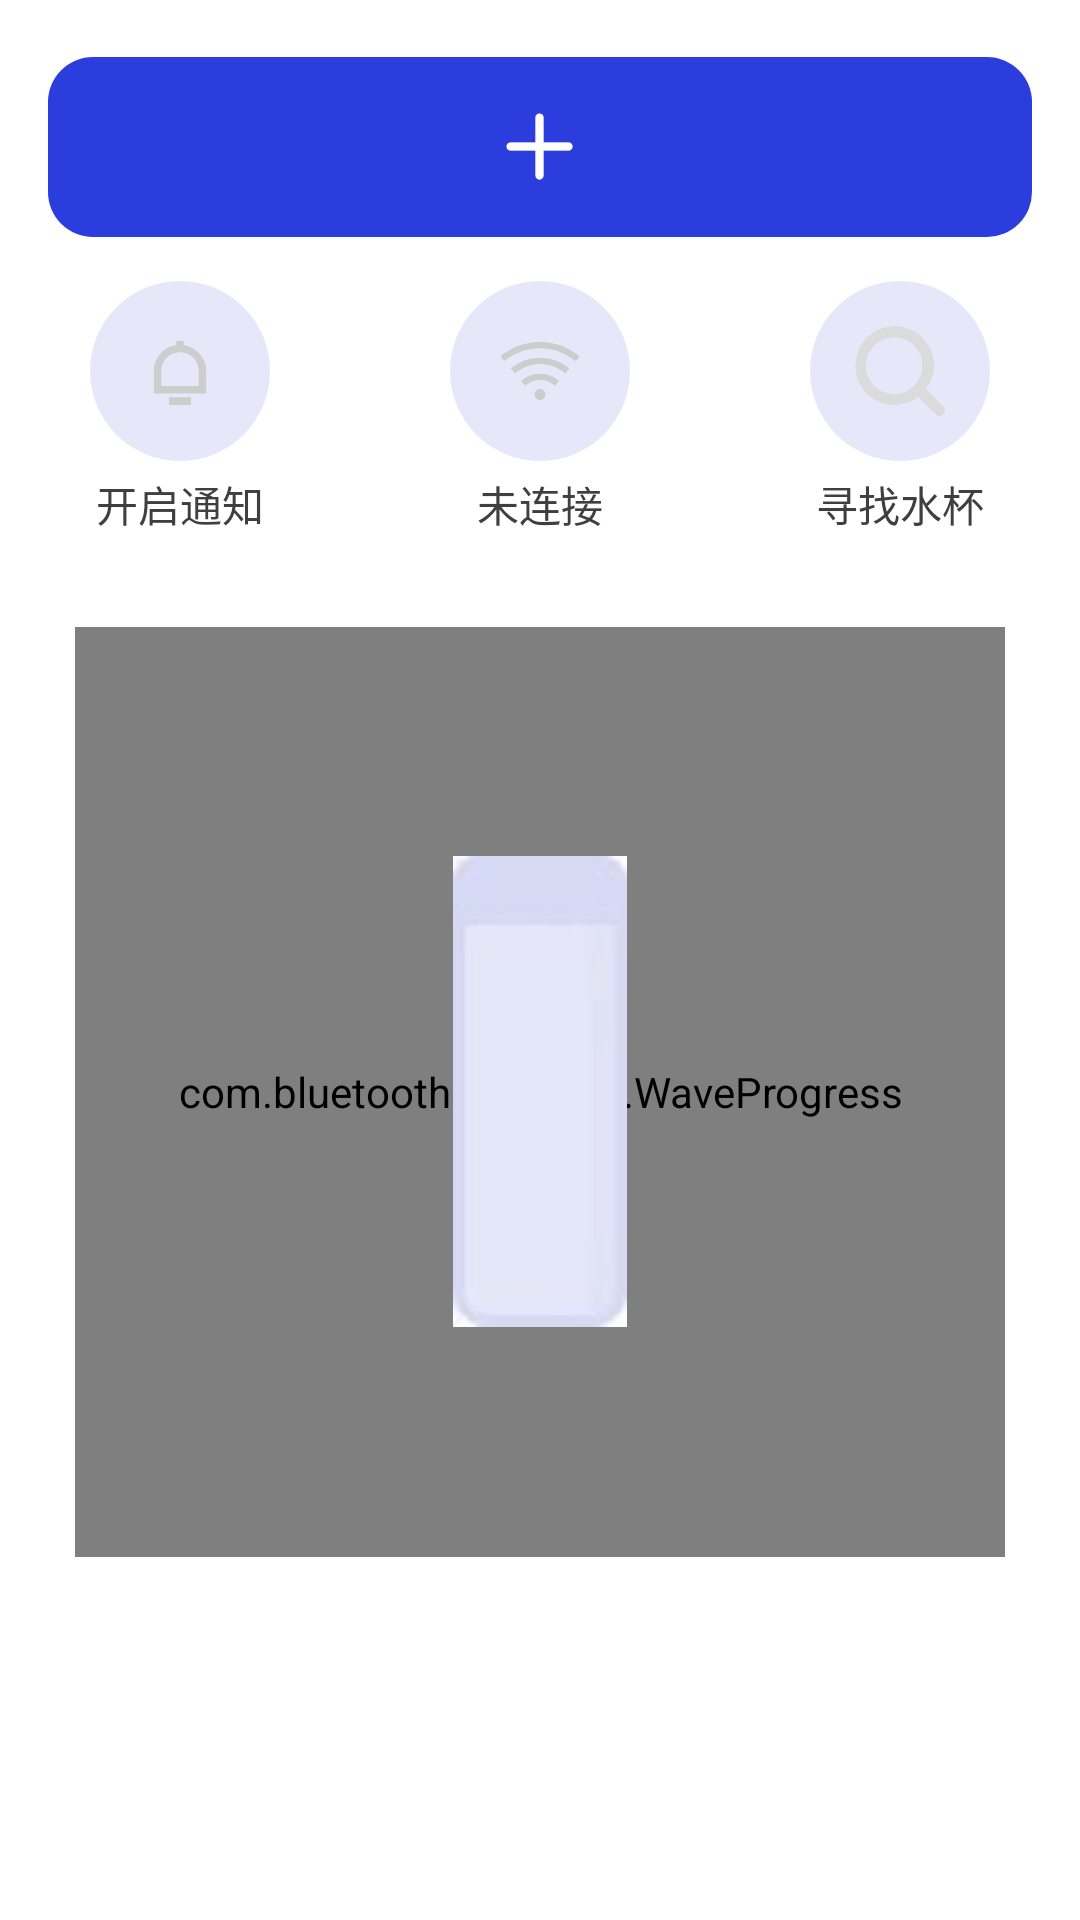

Screen size 1080*1920. Icon name, then its box in pixels as (x1, y1, x2, y2):
add: (506, 113, 573, 180)
conncent fail: (501, 342, 579, 400)
search fail: (856, 327, 945, 416)
